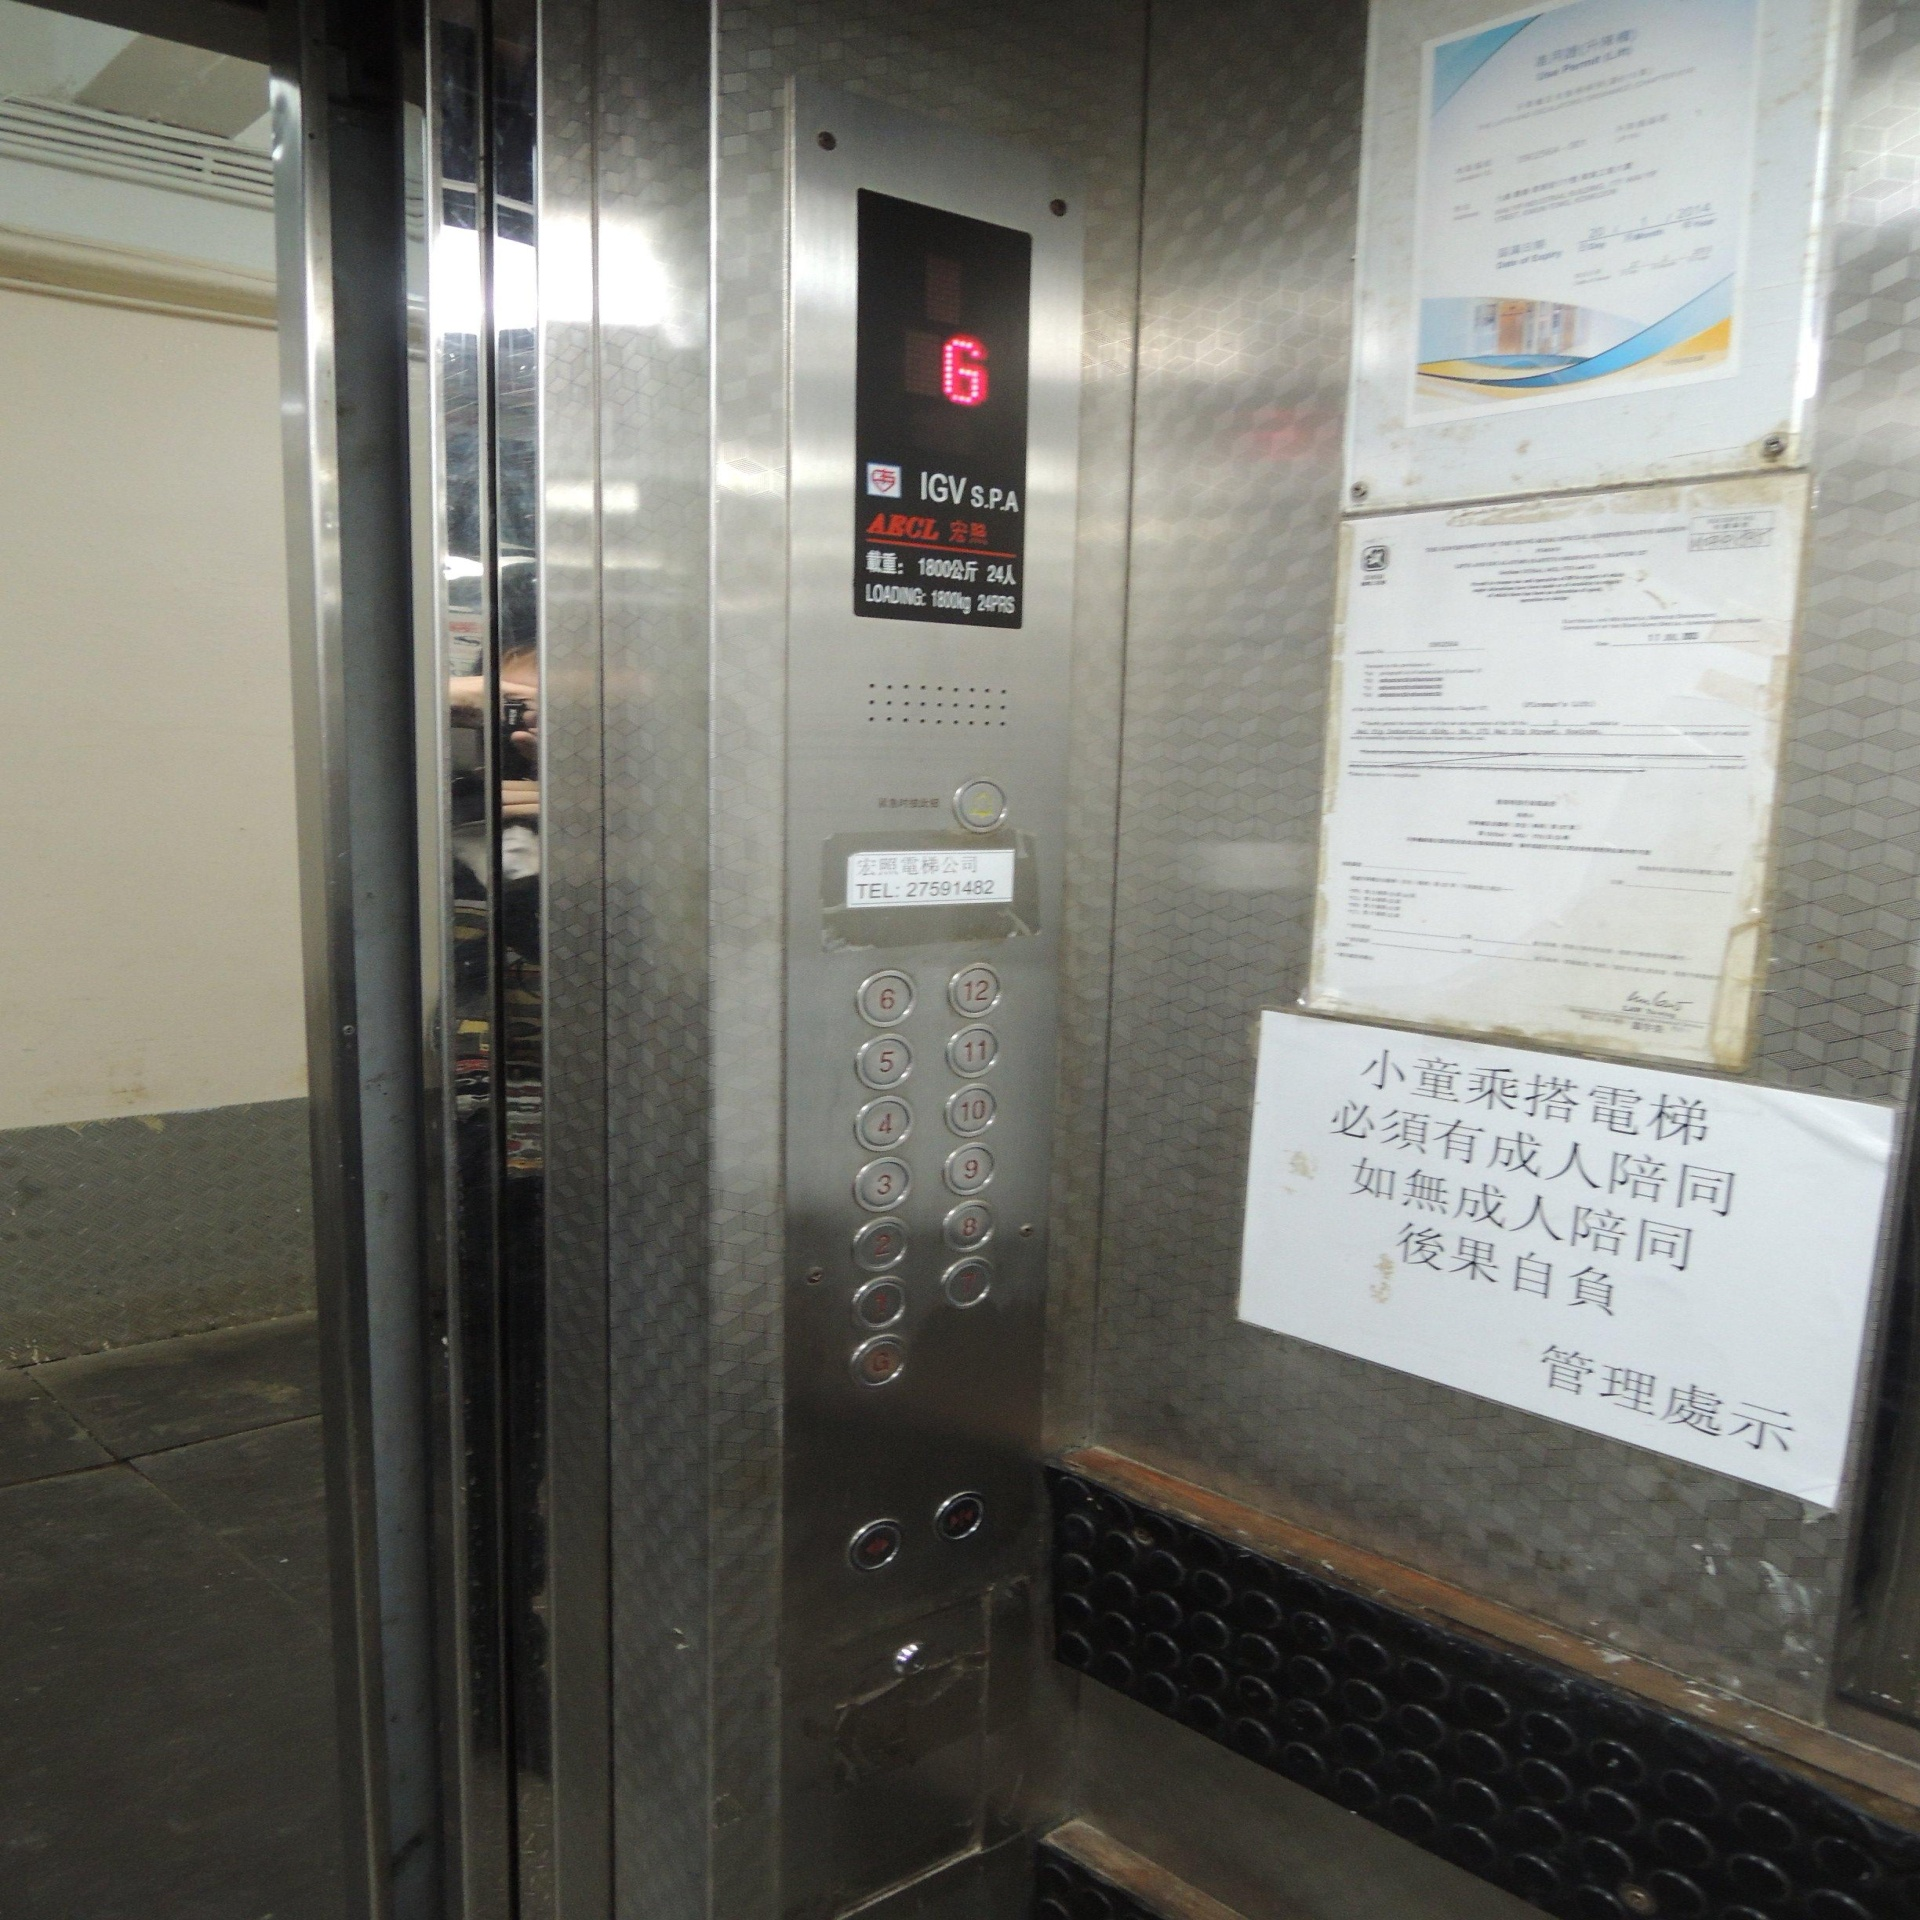1: (849, 1275, 911, 1335)
10: (942, 1083, 999, 1139)
11: (941, 1023, 1002, 1080)
12: (944, 960, 1002, 1022)
2: (851, 1215, 911, 1273)
3: (849, 1152, 913, 1215)
4: (851, 1095, 914, 1153)
5: (855, 1034, 913, 1092)
6: (853, 965, 920, 1030)
7: (939, 1255, 995, 1312)
8: (937, 1199, 995, 1255)
9: (941, 1141, 997, 1196)
G: (846, 1333, 911, 1393)
alarm: (949, 775, 1009, 837)
close: (932, 1487, 988, 1545)
keyhole: (893, 1639, 925, 1676)
led: (846, 185, 1057, 636)
open: (846, 1516, 911, 1575)
